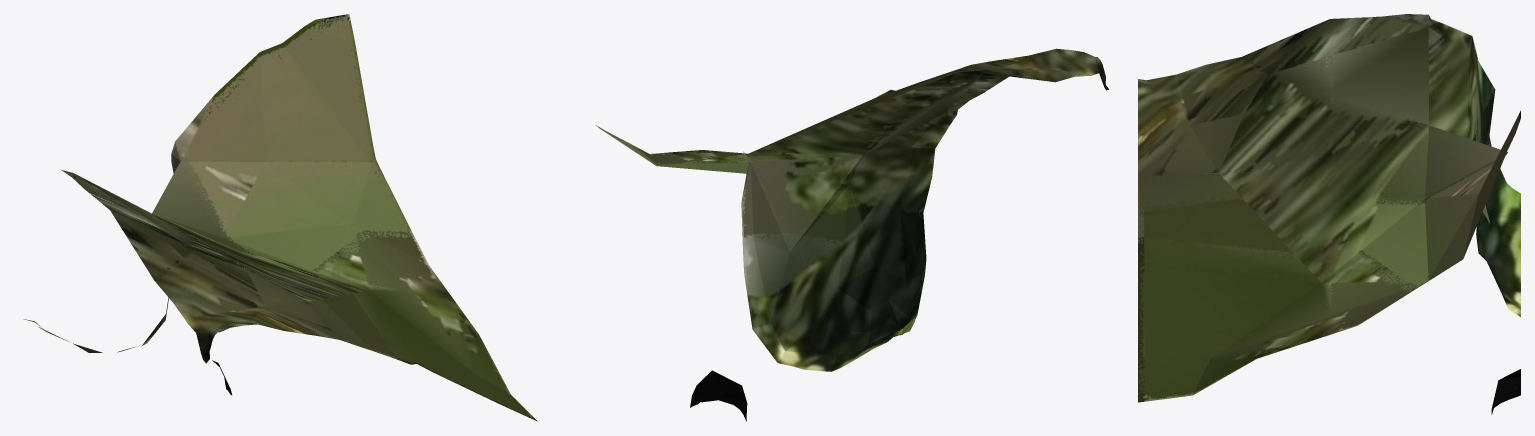
3 views of the same model, side by side, from view 1: azimuth 30°, elevation 25°; view 2: azimuth 150°, elevation 25°; view 3: azimuth 270°, elevation 25° (orthographic). The views are drawn at different scales.
Size of the model in its own units: 1.67 by 1.67 by 1.67.
4 materials, 4 textured.
